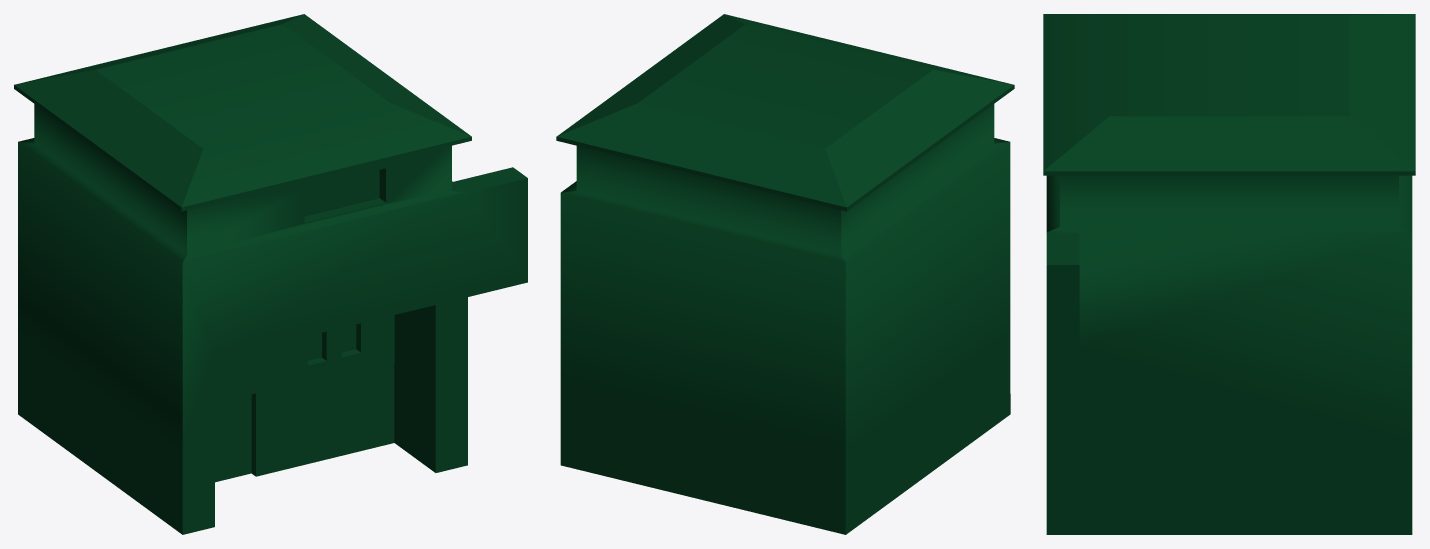
File: Casa.fbx
The picture shows the model from 3 angles, left to right: view 1: azimuth 30°, elevation 25°; view 2: azimuth 150°, elevation 25°; view 3: azimuth 270°, elevation 25°; orthographic projection. The views are drawn at different scales.
Parts seen in each view (by area): view 1: Object002; view 2: Object002; view 3: Object002.
Part boxes in pixels (<box>): Object002: <box>14,14,527,534</box>; Object002: <box>556,14,1014,534</box>; Object002: <box>1043,14,1415,534</box>.
Size of the model in its own units: 32.12 by 31.19 by 26.82.
